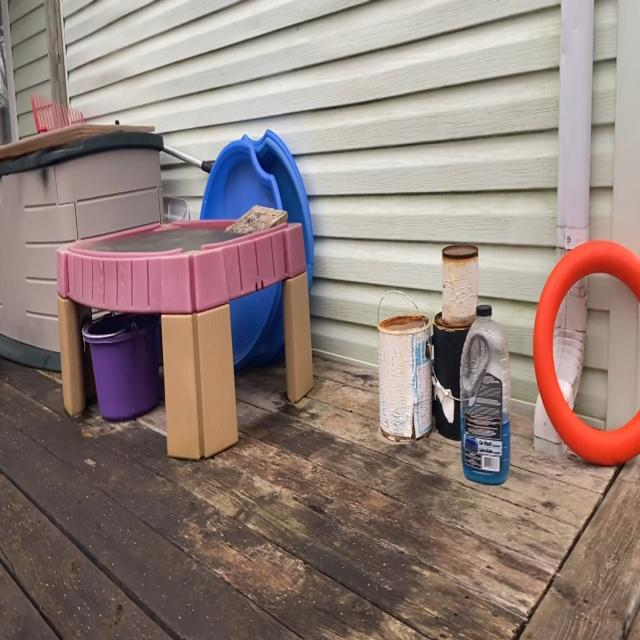note: (530, 236, 640, 470)
